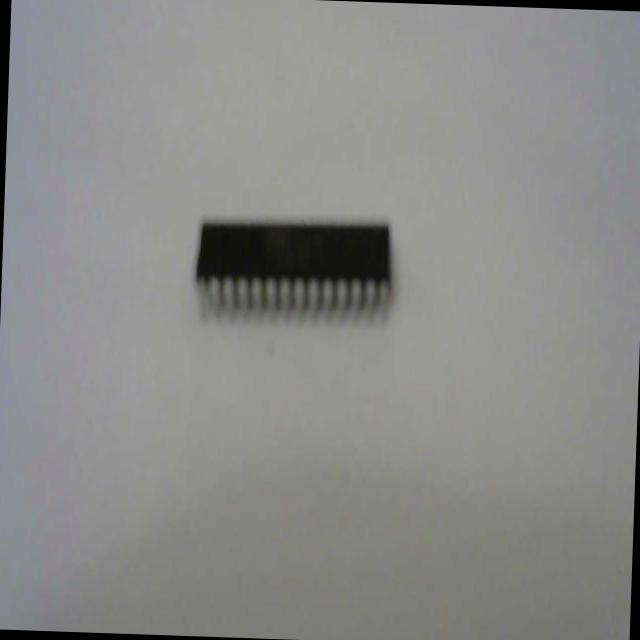atmega: (190, 208, 398, 334)
